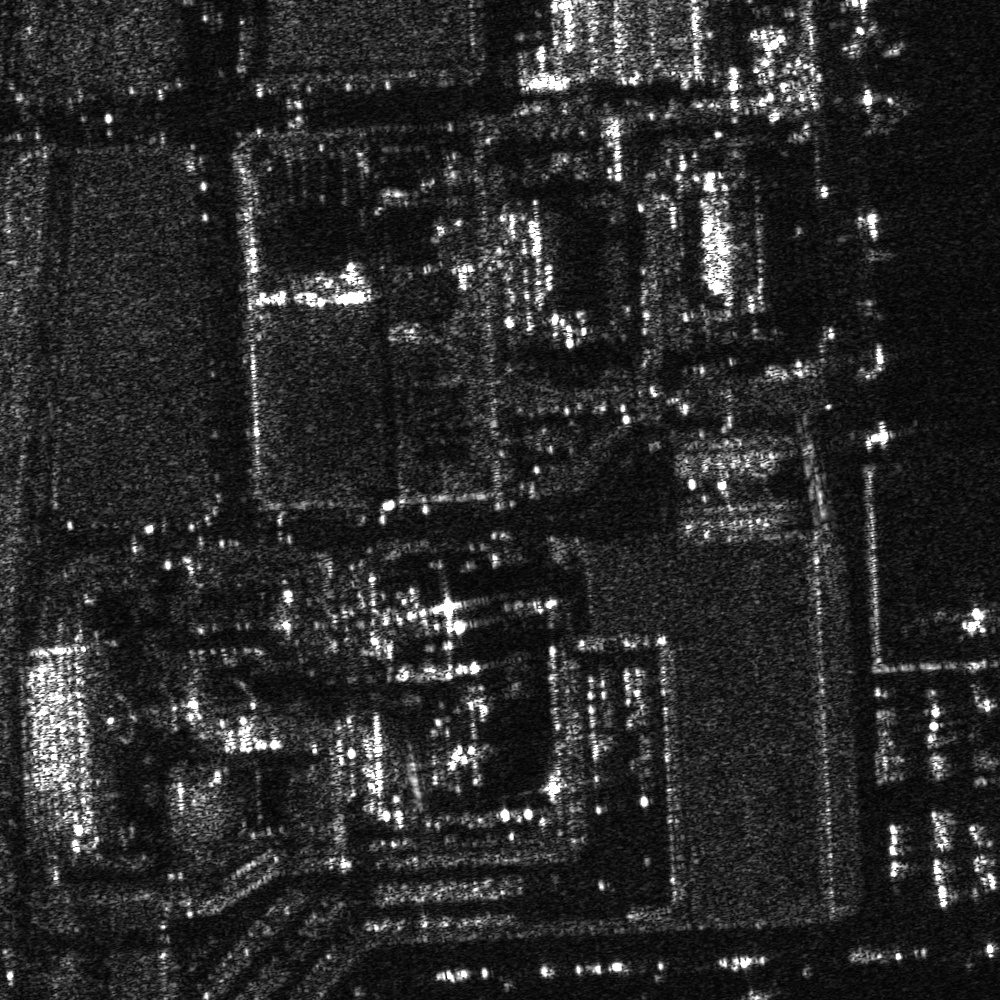ARJ21: (946, 587, 999, 648)
